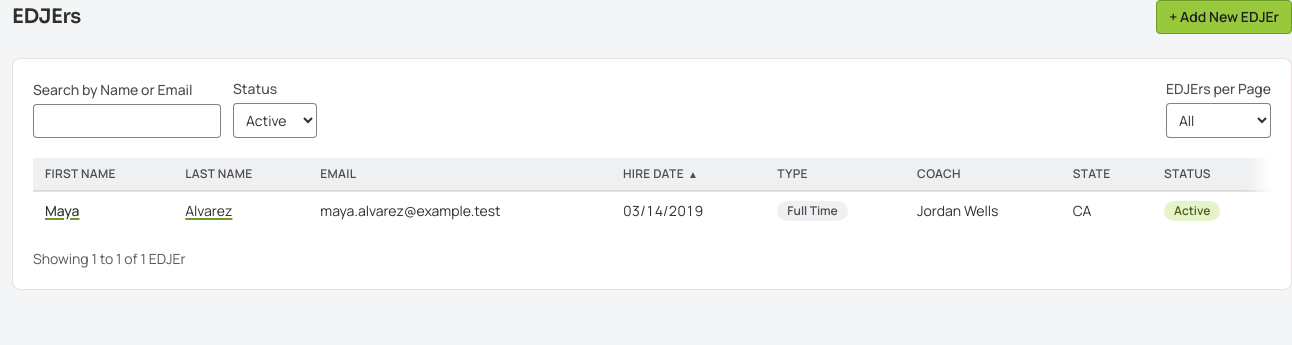
Test case: EdjerListPage › states status as a word, never as colour alone
Note: Two statuses in the fixture, but the default Active filter hides one — widen it first.
Select "All" in the dropdown labelled "Status" at coordinates (275, 120), box 233,103 -> 317,138
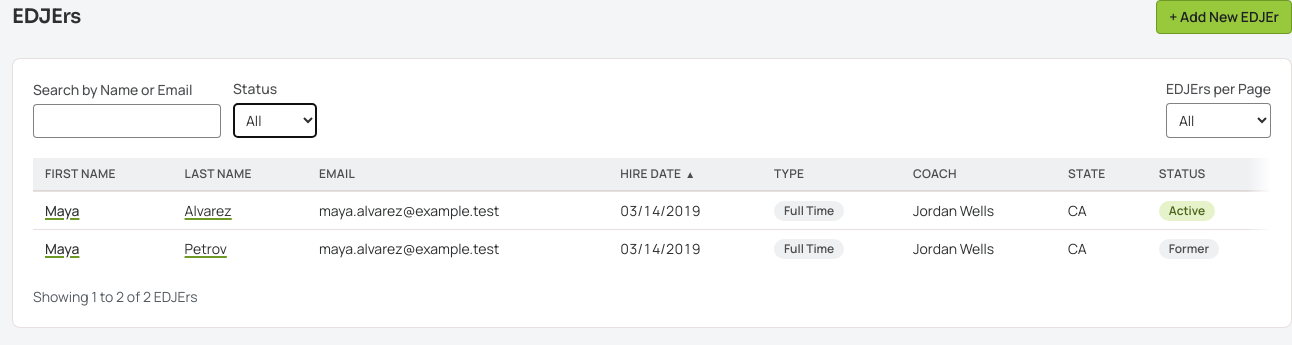
Expected: the text "Active" is shown, 1159,201 -> 1215,221
Now the text "Former" is shown, box 1159,239 -> 1219,259
